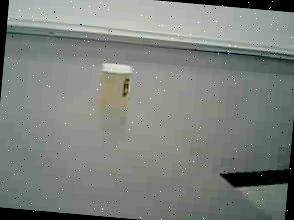Bottle B: (93, 58, 138, 128)
